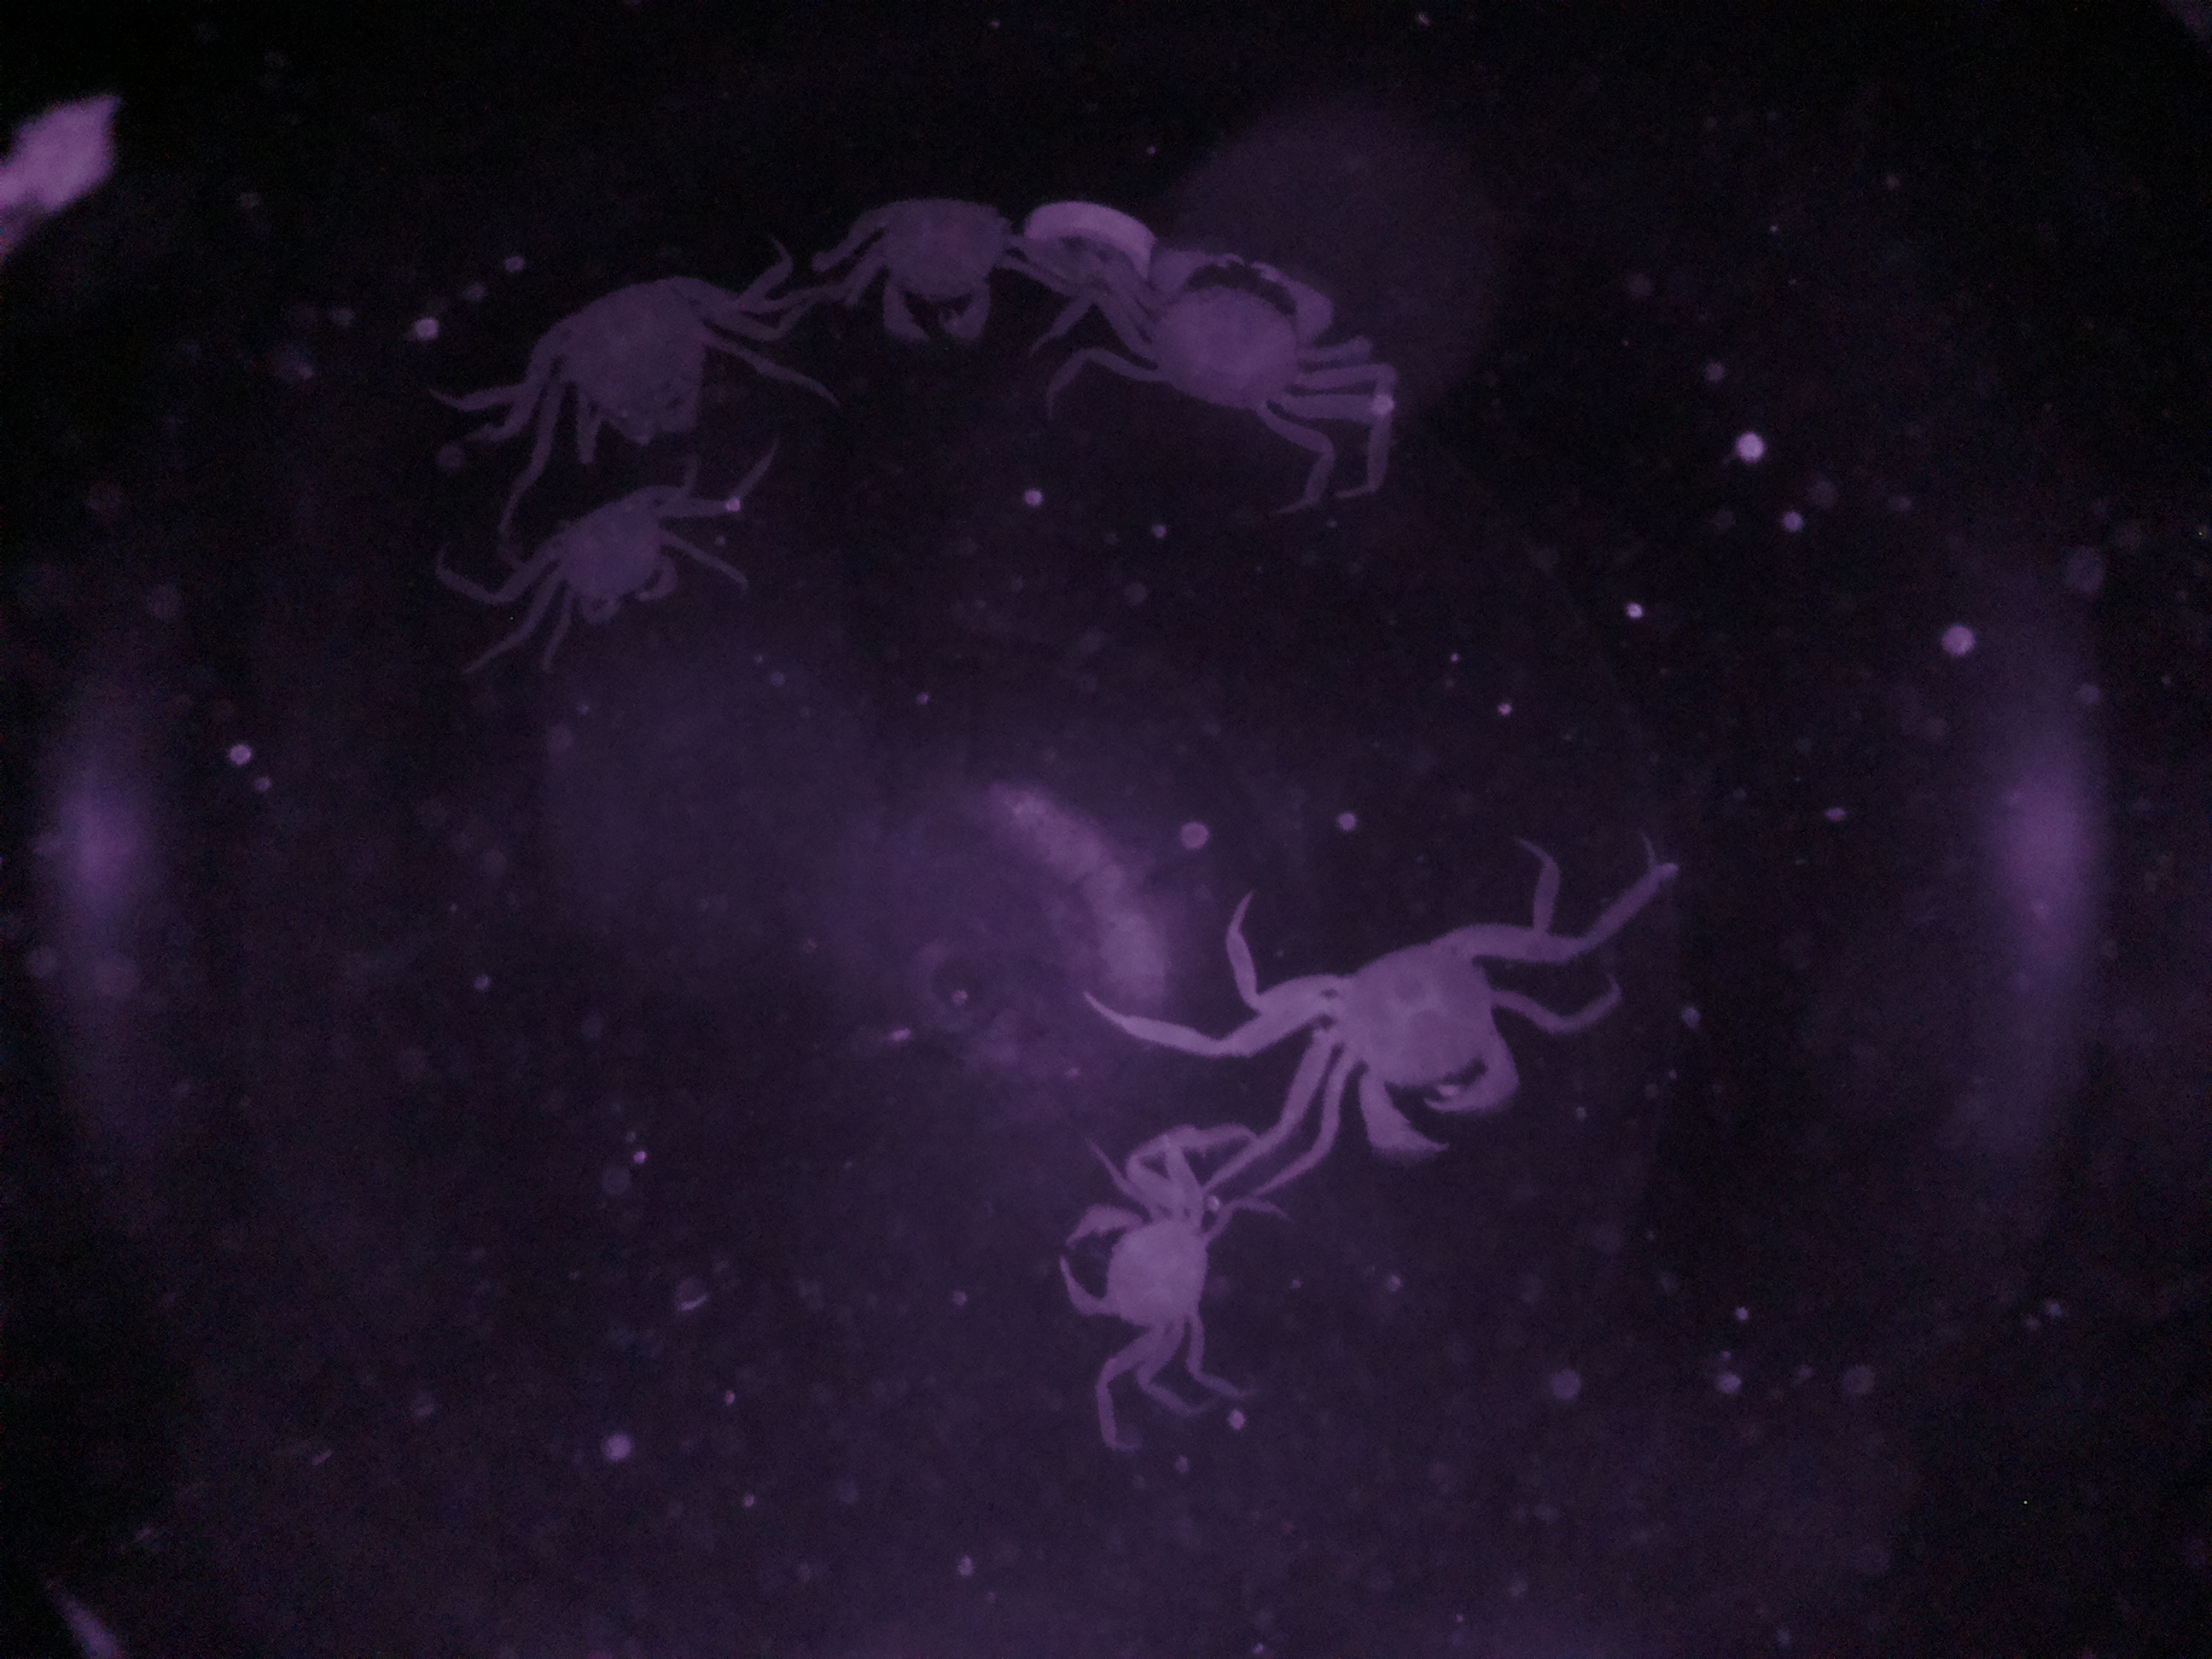Crab: (1261, 908, 1552, 1173), (1092, 240, 1345, 443), (514, 254, 761, 460), (1054, 1150, 1244, 1373), (846, 176, 1033, 373), (496, 465, 697, 638)
